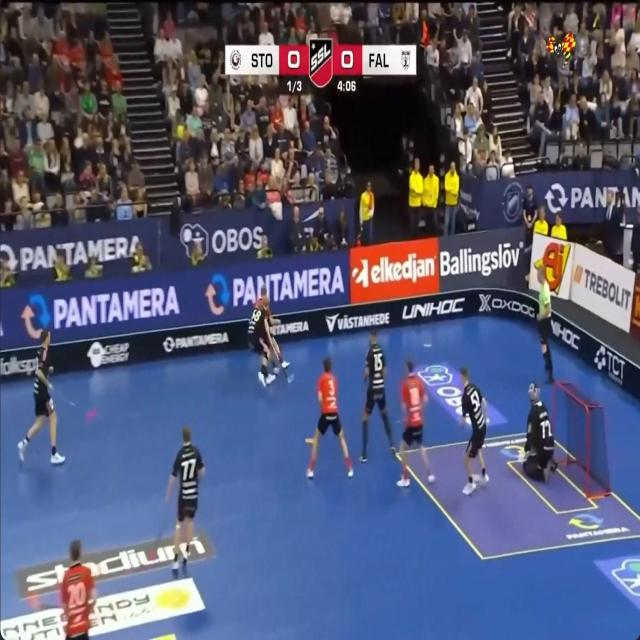player: (18, 331, 64, 464), (165, 426, 205, 577), (306, 358, 353, 478), (359, 331, 395, 463), (397, 360, 434, 486), (460, 367, 489, 494), (520, 382, 556, 482), (61, 539, 95, 639), (254, 285, 288, 373), (247, 303, 275, 385), (265, 295, 267, 301)
